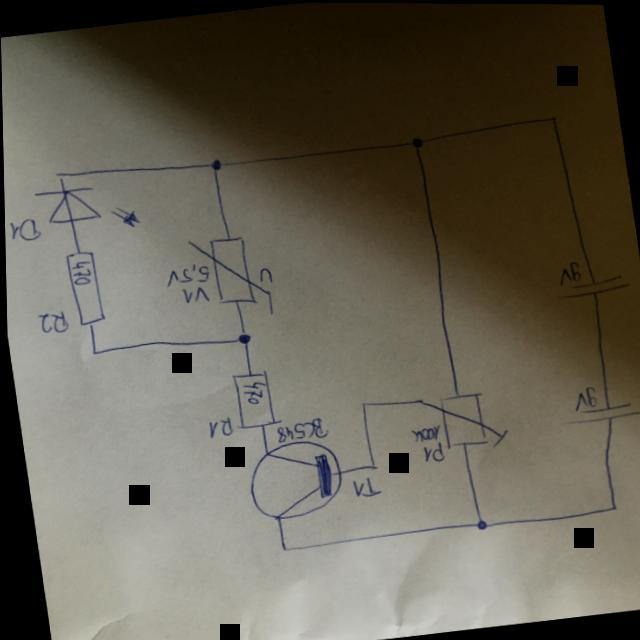diode: (32, 181, 142, 239)
junction: (234, 330, 252, 346), (409, 135, 425, 150), (207, 158, 222, 172), (473, 519, 486, 530), (53, 171, 66, 182), (607, 503, 618, 513), (547, 113, 559, 122), (368, 462, 378, 471), (277, 546, 288, 554), (88, 349, 98, 357), (358, 401, 367, 408)
resistor: (415, 385, 509, 457), (62, 249, 107, 329), (226, 367, 282, 431)
source: (552, 272, 631, 302), (562, 400, 640, 426)
text: (272, 416, 329, 444), (162, 260, 213, 289), (7, 216, 43, 246), (33, 309, 71, 337), (552, 259, 585, 286), (200, 414, 234, 440), (348, 474, 381, 500), (239, 379, 268, 407), (569, 384, 599, 411), (407, 421, 442, 444), (178, 284, 211, 307), (70, 258, 95, 287), (419, 440, 444, 464), (254, 265, 274, 286)
transistor: (241, 436, 347, 524)
